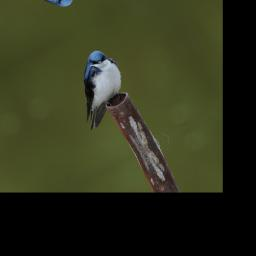Swallow: (57, 43, 140, 132)
